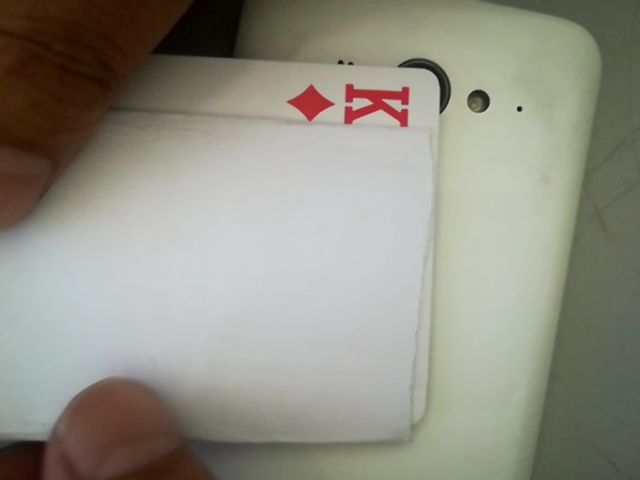fk k: (286, 68, 441, 132)
